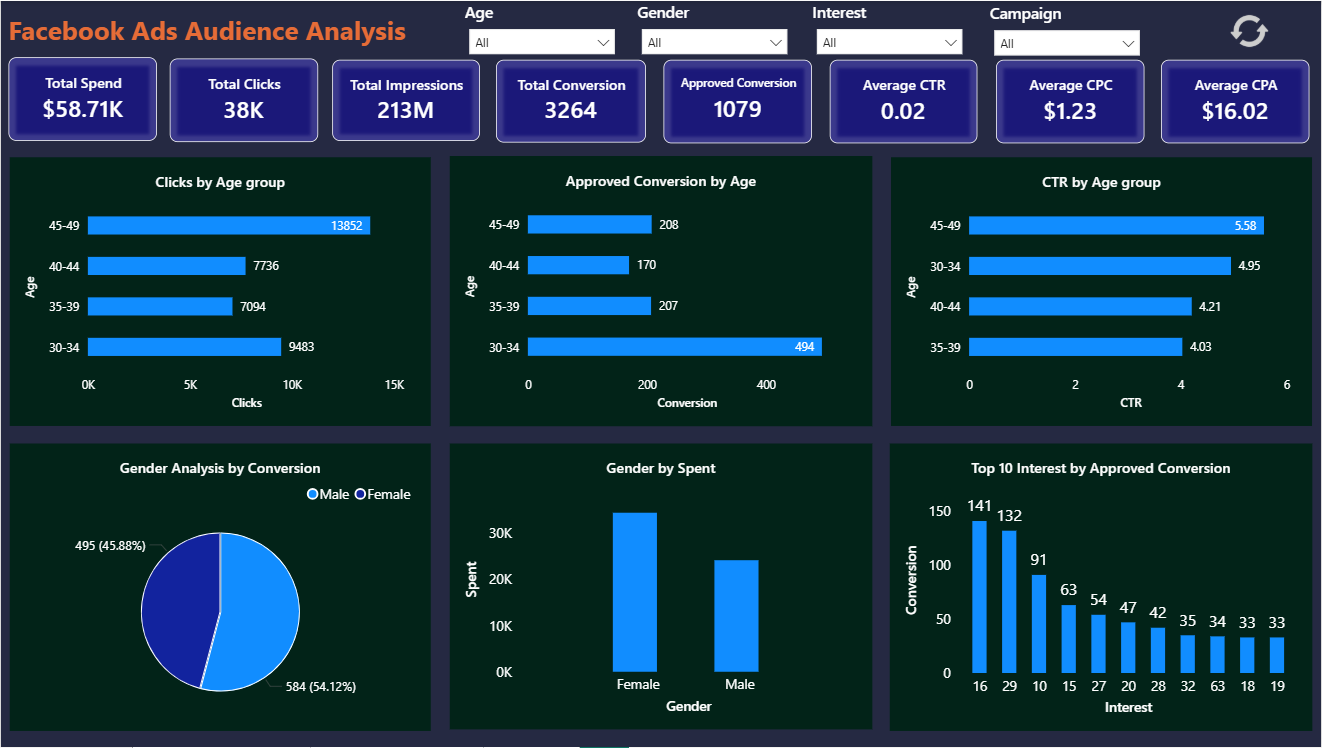

Layout of this report page (visuals, bound fields, positions):
{"tool":"powerbi","page":{"name":"Audience Analysis","canvas":[1351,764],"ordinal":1},"visuals":[{"type":"clusteredBarChart","title":"Clicks by Age group","fields":{"Category":["facebook_ads_feature_engineered.age"],"Y":["Sum(facebook_ads_feature_engineered.clicks)"]},"box":[9,160,431.4,275.2],"z":0},{"type":"clusteredBarChart","title":"Approved Conversion by Age","fields":{"Category":["facebook_ads_feature_engineered.age"],"Y":["Sum(facebook_ads_feature_engineered.Approved_Conversion)"]},"box":[459.6,158.7,432.7,276.5],"z":1000},{"type":"clusteredBarChart","title":"CTR by Age group","fields":{"Category":["facebook_ads_feature_engineered.age"],"Y":["Sum(facebook_ads_feature_engineered.CTR)"]},"box":[911.5,160,431.4,275.2],"z":2000},{"type":"clusteredColumnChart","title":"Gender by Spent","fields":{"Category":["facebook_ads_feature_engineered.Gender_full"],"Y":["Sum(facebook_ads_feature_engineered.spent)"]},"box":[459.6,453.2,432.7,293.2],"z":3000},{"type":"pieChart","title":"Gender Analysis by Conversion","fields":{"Y":["Sum(facebook_ads_feature_engineered.Approved_Conversion)"],"Category":["facebook_ads_feature_engineered.Gender_full"]},"box":[9,453.2,431.4,294.4],"z":4000},{"type":"textbox","box":[7.7,11.5,432.7,46.1],"z":5000},{"type":"image","box":[1241.8,11.5,74.2,38.4],"z":6000},{"type":"clusteredColumnChart","title":"Top 10 Interest by Approved Conversion","fields":{"Category":["facebook_ads_feature_engineered.interest"],"Y":["Sum(facebook_ads_feature_engineered.Approved_Conversion)"]},"box":[910.2,453.2,432.7,294.4],"z":7000},{"type":"card","title":"Total Spend","fields":{"Values":["facebook_ads_feature_engineered.Total Spend"]},"box":[7.7,57.9,152.3,85.8],"z":8000},{"type":"card","title":"Approved Conversion","fields":{"Values":["facebook_ads_feature_engineered.Approved Conversions"]},"box":[678.5,60.4,152.3,85.8],"z":9000},{"type":"card","title":"Total Conversion","fields":{"Values":["facebook_ads_feature_engineered.Total Conversion"]},"box":[506.9,60.4,153.6,84.5],"z":10000},{"type":"card","title":"Average CTR","fields":{"Values":["facebook_ads_feature_engineered.Average CTR"]},"box":[848.8,60.4,151.1,85.8],"z":11000},{"type":"card","title":"Total Clicks","fields":{"Values":["facebook_ads_feature_engineered.Total Clicks"]},"box":[172.5,58.6,151.7,85.6],"z":12000},{"type":"card","title":"Total Impressions","fields":{"Values":["facebook_ads_feature_engineered.Total Impressions"]},"box":[339.2,60.4,151.1,83.2],"z":13000},{"type":"card","title":"Average CPC","fields":{"Values":["facebook_ads_feature_engineered.Average CPC"]},"box":[1019,60.4,152.3,85.8],"z":14000},{"type":"card","title":"Average CPA","fields":{"Values":["facebook_ads_feature_engineered.Average CPA"]},"box":[1188,60.4,152.3,85.8],"z":15000},{"type":"slicer","title":"Age","fields":{"Values":["facebook_ads_feature_engineered.age"]},"box":[474.9,0,158.7,66.6],"z":16000},{"type":"slicer","title":"Gender","fields":{"Values":["facebook_ads_feature_engineered.Gender_full"]},"box":[651.6,0,158.7,66.6],"z":17000},{"type":"slicer","title":"Interest","fields":{"Values":["facebook_ads_feature_engineered.interest"]},"box":[830.8,0,158.7,66.6],"z":18000},{"type":"slicer","title":"Campaign","fields":{"Values":["facebook_ads_feature_engineered.xyz_campaign_id"]},"box":[1012.6,1.3,158.7,66.6],"z":19000}]}

Visuals, with their boxes in screenshot pixels (x1, y1, x2, y2), scaled from the page's 1351x764 canvas onto the 1322x748 screenshot:
"Clicks by Age group" clusteredBarChart: {"x1": 9, "y1": 157, "x2": 431, "y2": 426}
"Approved Conversion by Age" clusteredBarChart: {"x1": 450, "y1": 155, "x2": 873, "y2": 426}
"CTR by Age group" clusteredBarChart: {"x1": 892, "y1": 157, "x2": 1314, "y2": 426}
"Gender by Spent" clusteredColumnChart: {"x1": 450, "y1": 444, "x2": 873, "y2": 731}
"Gender Analysis by Conversion" pieChart: {"x1": 9, "y1": 444, "x2": 431, "y2": 732}
textbox: {"x1": 8, "y1": 11, "x2": 431, "y2": 56}
image: {"x1": 1215, "y1": 11, "x2": 1288, "y2": 49}
"Top 10 Interest by Approved Conversion" clusteredColumnChart: {"x1": 891, "y1": 444, "x2": 1314, "y2": 732}
"Total Spend" card: {"x1": 8, "y1": 57, "x2": 157, "y2": 141}
"Approved Conversion" card: {"x1": 664, "y1": 59, "x2": 813, "y2": 143}
"Total Conversion" card: {"x1": 496, "y1": 59, "x2": 646, "y2": 142}
"Average CTR" card: {"x1": 831, "y1": 59, "x2": 978, "y2": 143}
"Total Clicks" card: {"x1": 169, "y1": 57, "x2": 317, "y2": 141}
"Total Impressions" card: {"x1": 332, "y1": 59, "x2": 480, "y2": 141}
"Average CPC" card: {"x1": 997, "y1": 59, "x2": 1146, "y2": 143}
"Average CPA" card: {"x1": 1162, "y1": 59, "x2": 1312, "y2": 143}
"Age" slicer: {"x1": 465, "y1": 0, "x2": 620, "y2": 65}
"Gender" slicer: {"x1": 638, "y1": 0, "x2": 793, "y2": 65}
"Interest" slicer: {"x1": 813, "y1": 0, "x2": 968, "y2": 65}
"Campaign" slicer: {"x1": 991, "y1": 1, "x2": 1146, "y2": 66}
